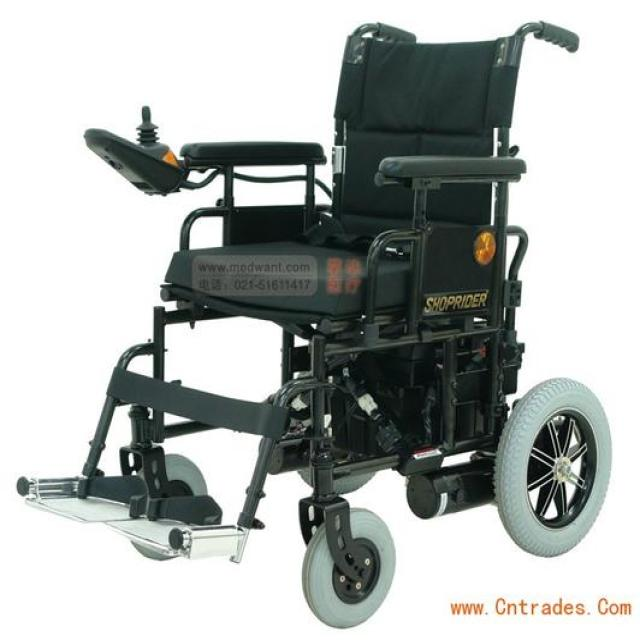wheelchairs: (11, 16, 614, 634)
